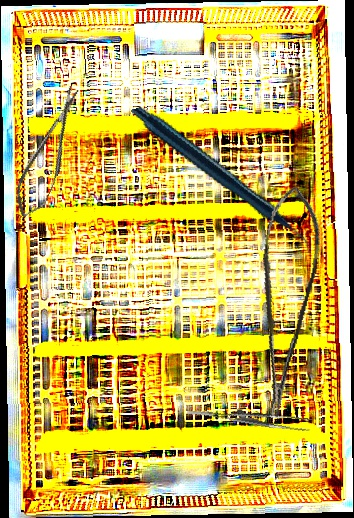Handpiece: (130, 73, 311, 289)
Micro Scissor: (227, 183, 334, 419), (6, 82, 94, 223)
Tissue Forceps: (186, 389, 314, 444)
